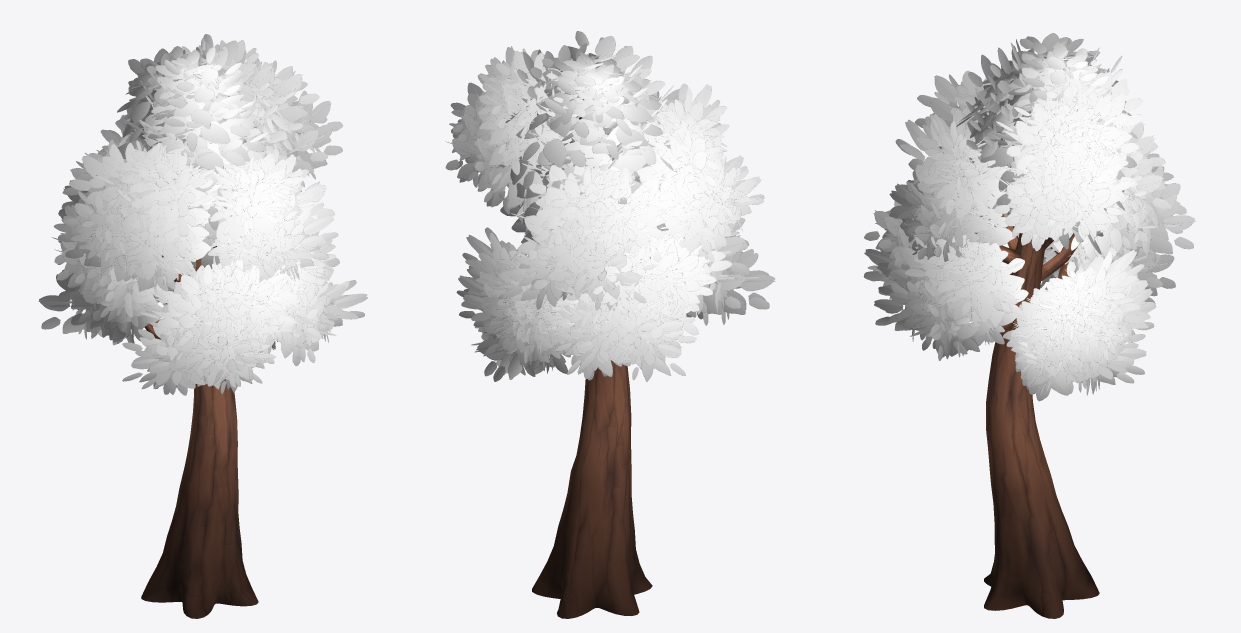
Rendered from CommonTree_1.gltf.
3 views of the same model, side by side, from view 1: azimuth 30°, elevation 25°; view 2: azimuth 150°, elevation 25°; view 3: azimuth 270°, elevation 25° (orthographic). The views are drawn at different scales.
Visible parts, largest first — view 1: CommonTree_1; view 2: CommonTree_1; view 3: CommonTree_1.
Part boxes in pixels (x1,y1,x2,y2): CommonTree_1: [38, 34, 367, 618]; CommonTree_1: [445, 31, 775, 618]; CommonTree_1: [863, 33, 1196, 618].
Bounding box in the file's own units: 4.31 × 7.26 × 4.58.
Materials: 2 (2 with a texture image).
